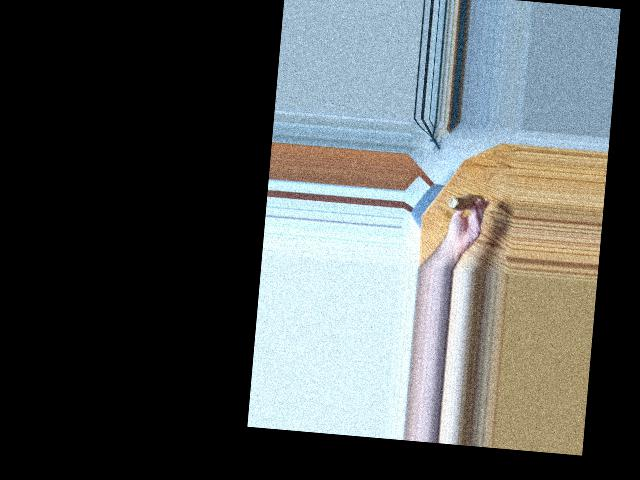sweet_potato: (442, 190, 486, 222)
